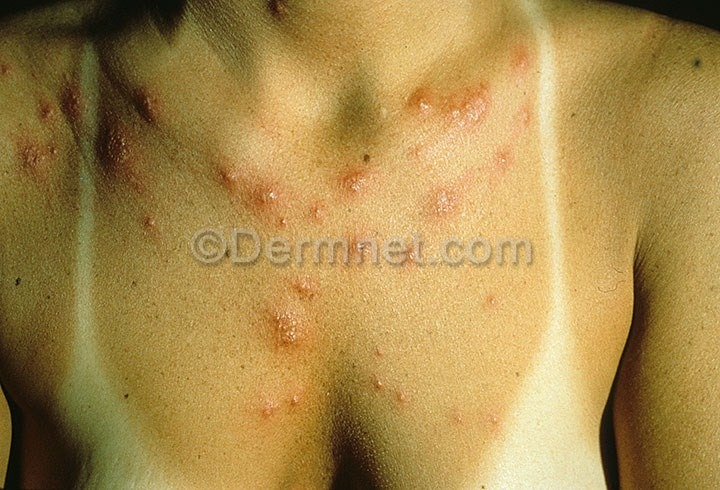Melasma: (0, 36, 534, 431)
